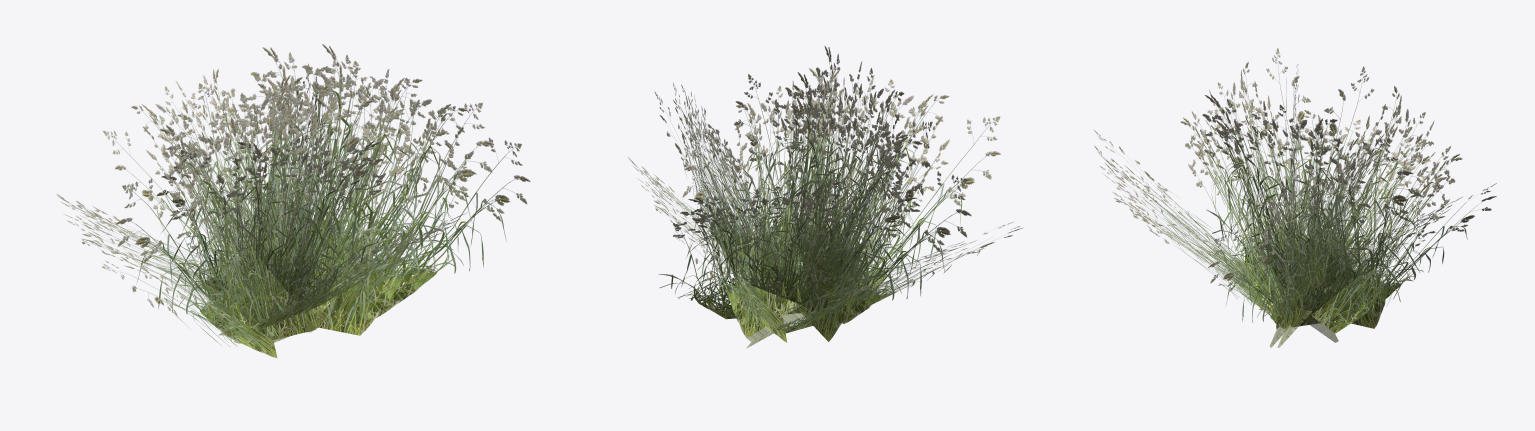
The model's file is bush_2.glb.
The picture shows the model from 3 angles, left to right: view 1: azimuth 30°, elevation 25°; view 2: azimuth 150°, elevation 25°; view 3: azimuth 270°, elevation 25°; orthographic projection. The views are drawn at different scales.
Parts seen in each view (by area): view 1: Shrub1-FoliageBox; view 2: Shrub1-FoliageBox; view 3: Shrub1-FoliageBox.
Boxes of the visible parts, bbox=[...] form: Shrub1-FoliageBox: bbox=[56, 44, 530, 358]; Shrub1-FoliageBox: bbox=[628, 46, 1023, 348]; Shrub1-FoliageBox: bbox=[1093, 48, 1496, 347].
Size of the model in its own units: 4.26 by 2.99 by 4.07.
1 material, 1 textured.
